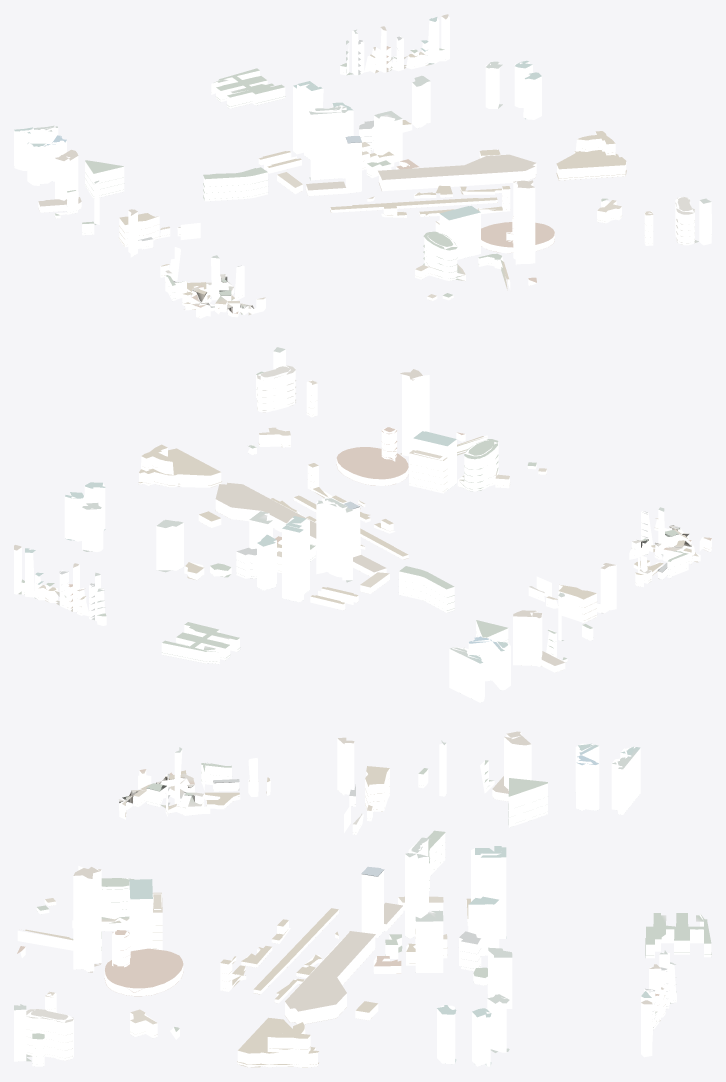
File: buildings--6_0-coarse.glb
3 views of the same model, one above another, from view 1: azimuth 30°, elevation 25°; view 2: azimuth 150°, elevation 25°; view 3: azimuth 270°, elevation 25° (orthographic). The views are drawn at different scales.
Parts seen in each view (by area): view 1: block_-6_0_office, block_-6_0_residential, block_-6_0_roof; view 2: block_-6_0_office, block_-6_0_residential, block_-6_0_roof; view 3: block_-6_0_office, block_-6_0_residential, block_-6_0_roof.
Part boxes in pixels (x1=…): block_-6_0_office: x1=14, y1=16, x2=711, y2=300; block_-6_0_residential: x1=38, y1=36, x2=711, y2=318; block_-6_0_roof: x1=14, y1=14, x2=711, y2=315; block_-6_0_office: x1=14, y1=349, x2=665, y2=702; block_-6_0_residential: x1=21, y1=365, x2=711, y2=672; block_-6_0_roof: x1=14, y1=347, x2=711, y2=698; block_-6_0_office: x1=14, y1=732, x2=669, y2=1066; block_-6_0_residential: x1=17, y1=758, x2=711, y2=1067; block_-6_0_roof: x1=14, y1=731, x2=711, y2=1067.
Size of the model in its own units: 655 by 104 by 665.
